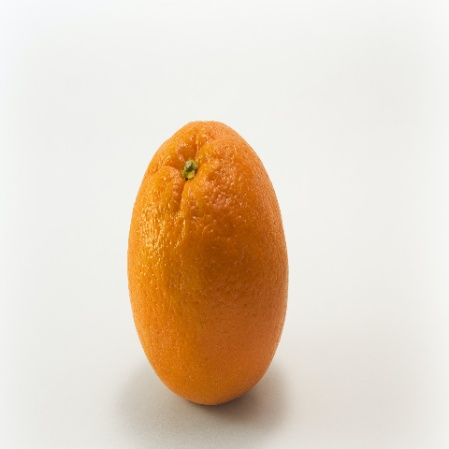orange: (101, 86, 331, 440)
